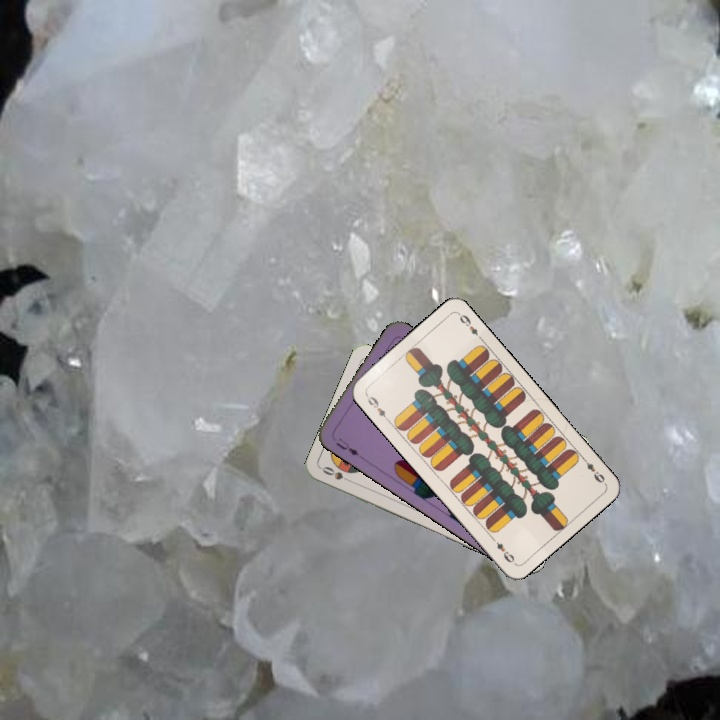E9: (361, 390, 392, 424), (578, 453, 607, 486)
EU: (332, 434, 361, 458)
SO: (318, 462, 357, 486)
